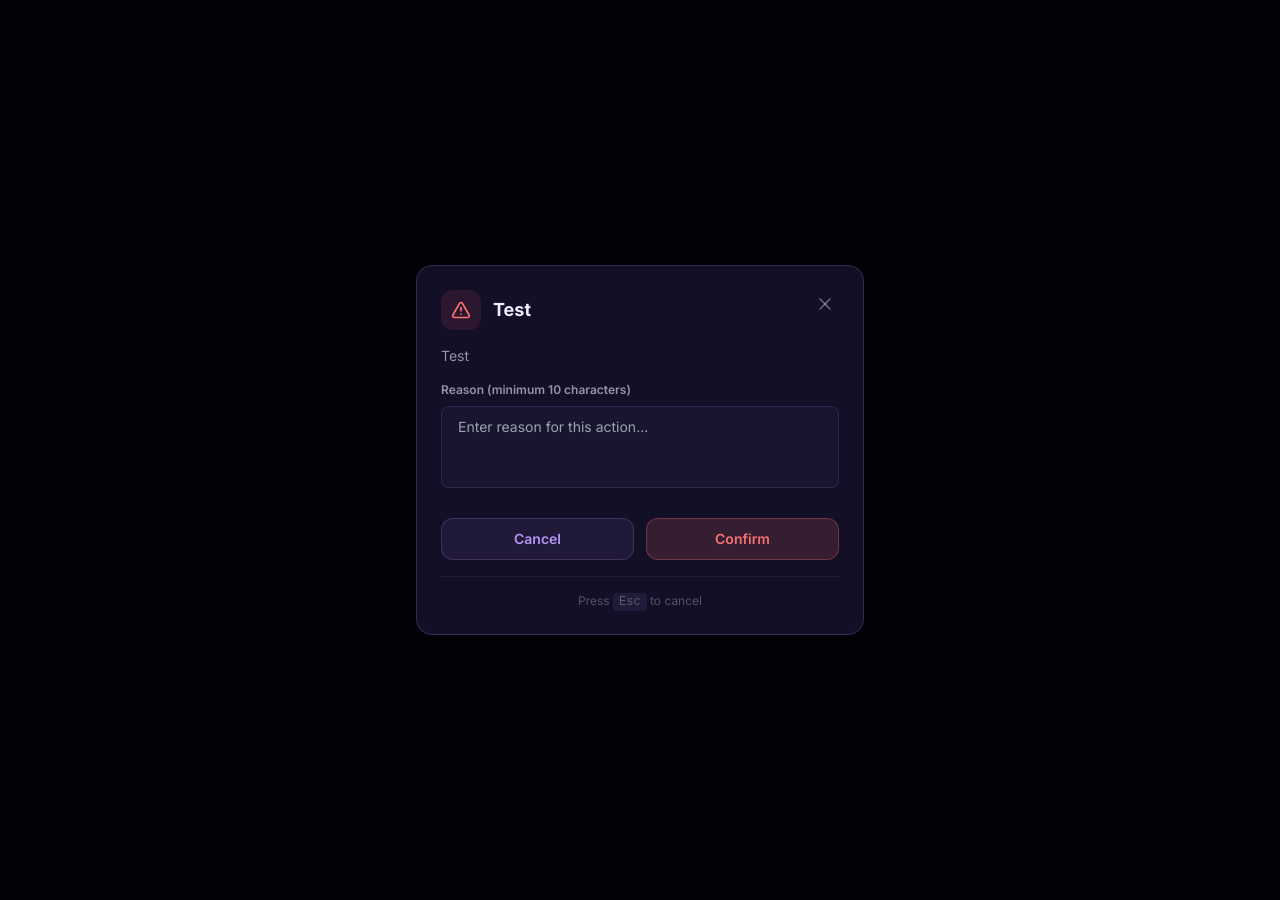
Test case: ConfirmationDialog › Validation › should show error when reason is too short
The image size is (1280, 900).
Type "Short" into the text box with placeholder "Enter reason for this action...". click: (640, 447)
box: x1=441 y1=406 x2=839 y2=488
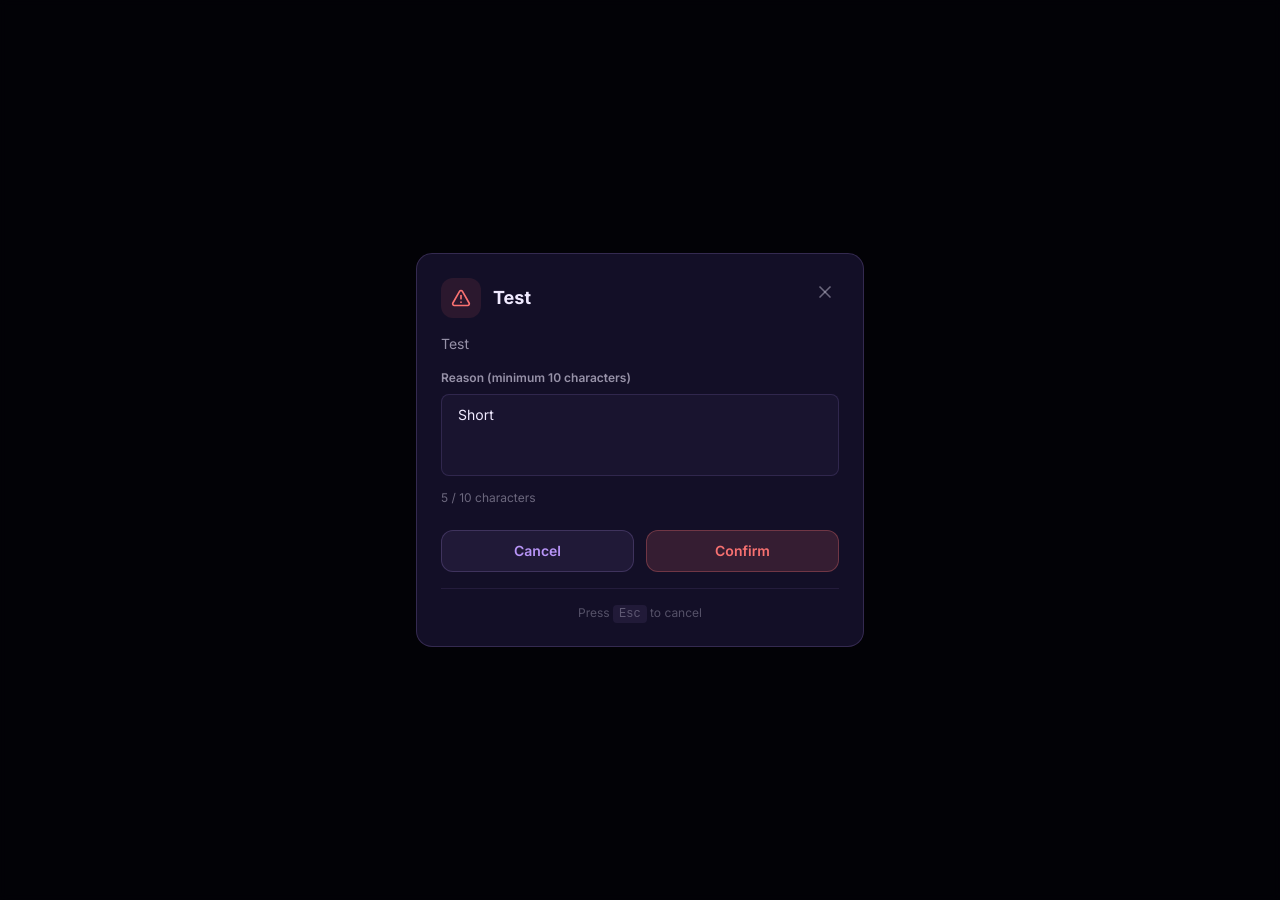
Click the button "Confirm". click: click(742, 551)
box: x1=646 y1=530 x2=839 y2=572
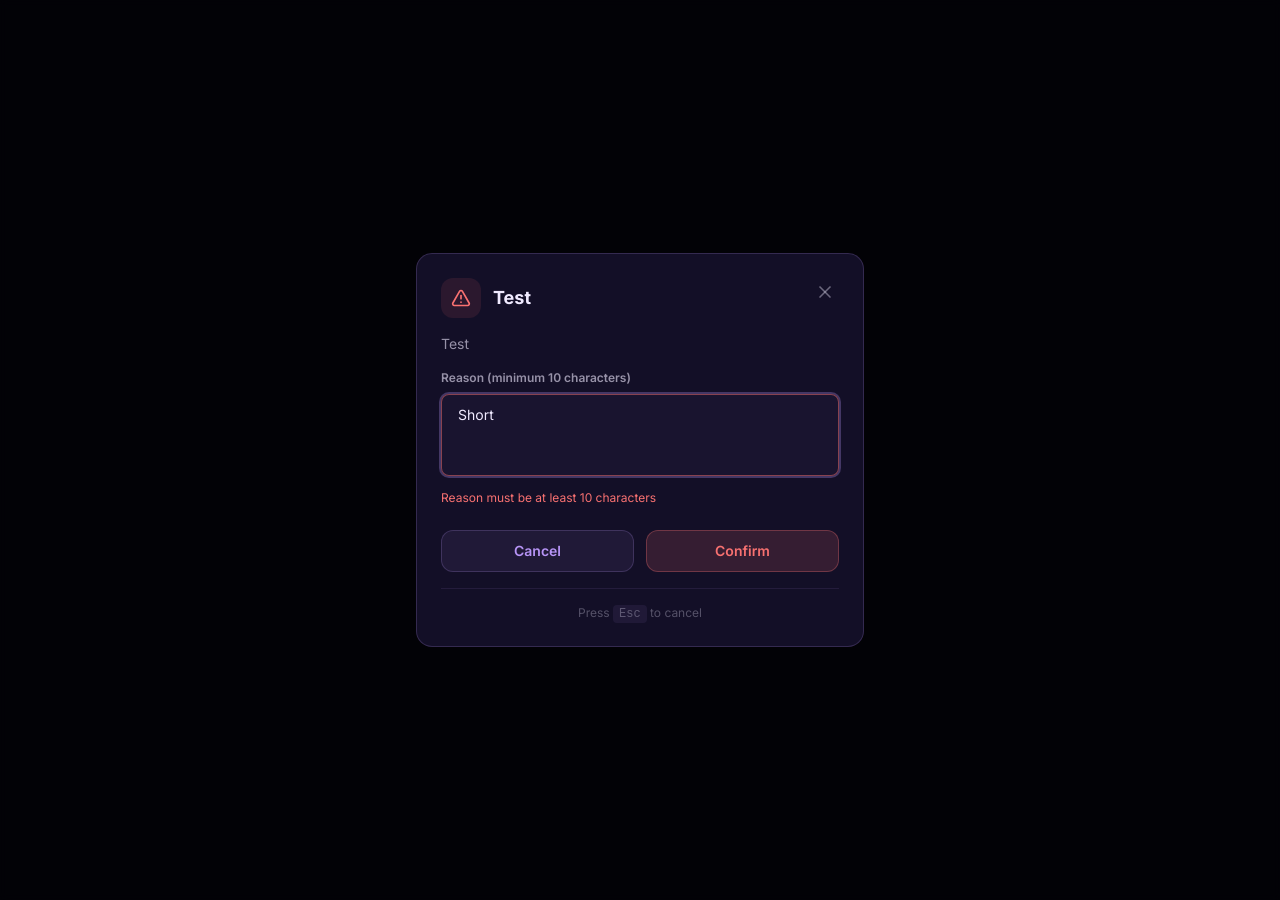
Expected: the text "Reason must be at least 10 characters" is shown, x1=441 y1=490 x2=656 y2=505
